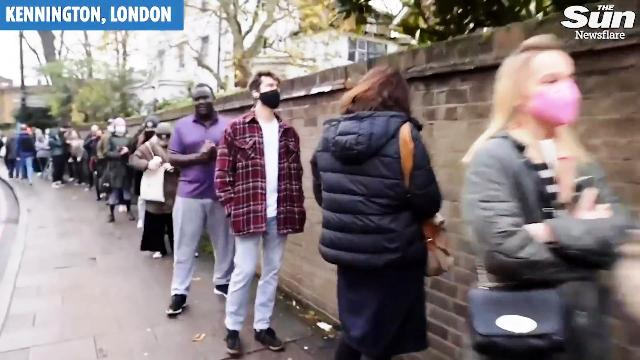berdiri: (308, 56, 446, 360), (214, 70, 312, 360), (162, 69, 236, 313)
